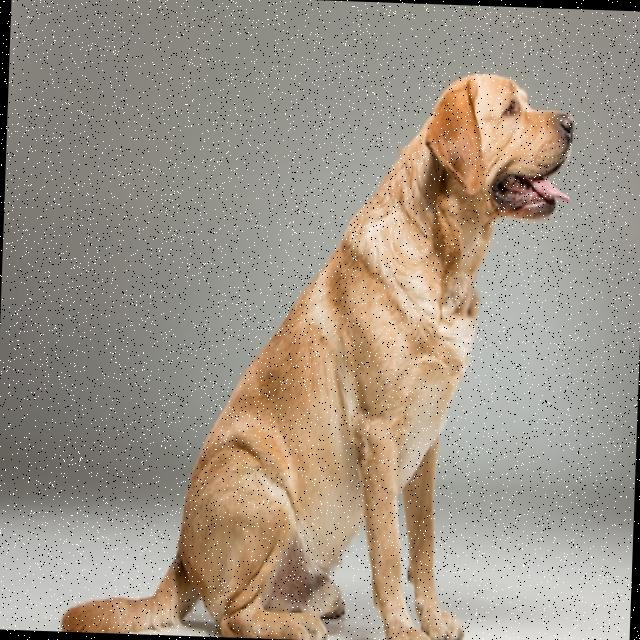Dog: (58, 57, 575, 640)
